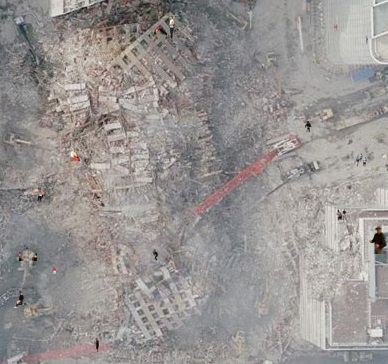Human: (152, 16, 175, 39), (369, 226, 387, 254), (339, 150, 367, 167), (14, 291, 28, 308), (27, 189, 44, 201), (70, 148, 84, 161), (19, 252, 37, 261), (12, 244, 28, 251), (336, 209, 346, 220), (151, 249, 160, 261), (93, 338, 99, 352), (305, 121, 312, 132), (331, 24, 342, 31), (52, 267, 57, 275), (366, 36, 368, 44), (317, 60, 320, 65), (198, 70, 202, 73), (126, 188, 128, 190), (199, 118, 200, 121), (254, 52, 255, 55), (65, 67, 66, 70)
